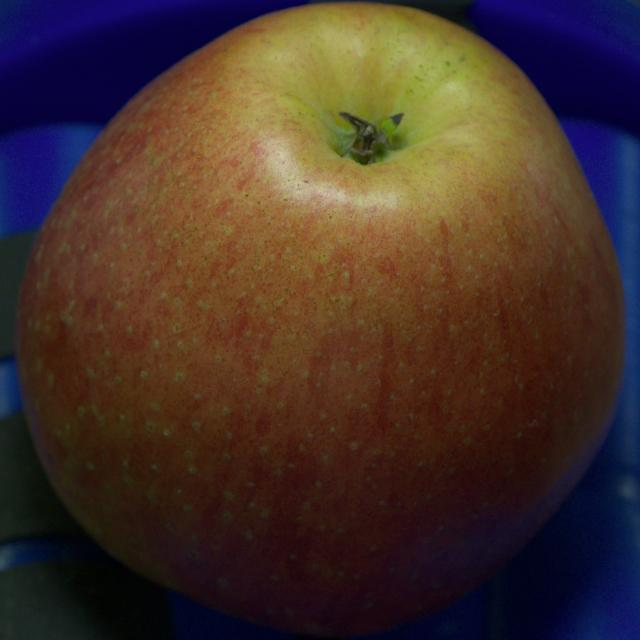apple: (16, 4, 624, 636)
